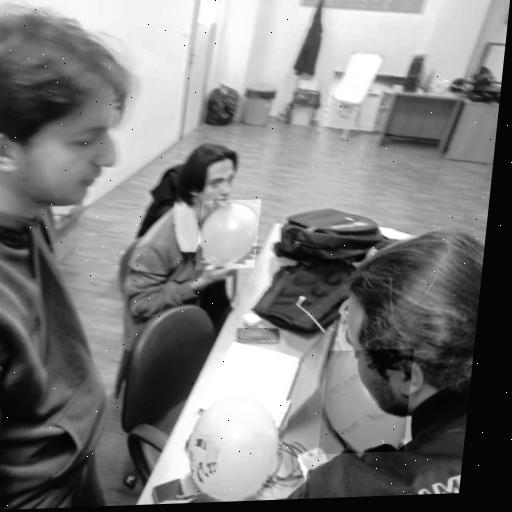balloon: (178, 393, 291, 503), (318, 348, 414, 454), (195, 199, 261, 270)
